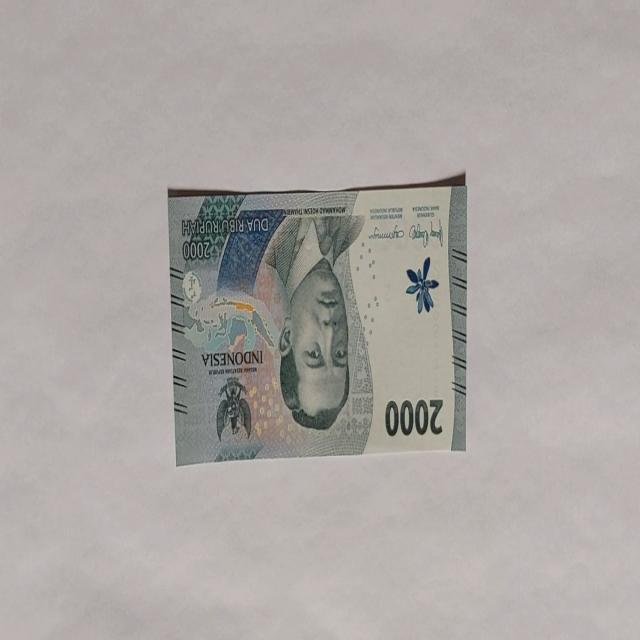dua ribu rupiah: (168, 180, 467, 463), (262, 214, 366, 434)
